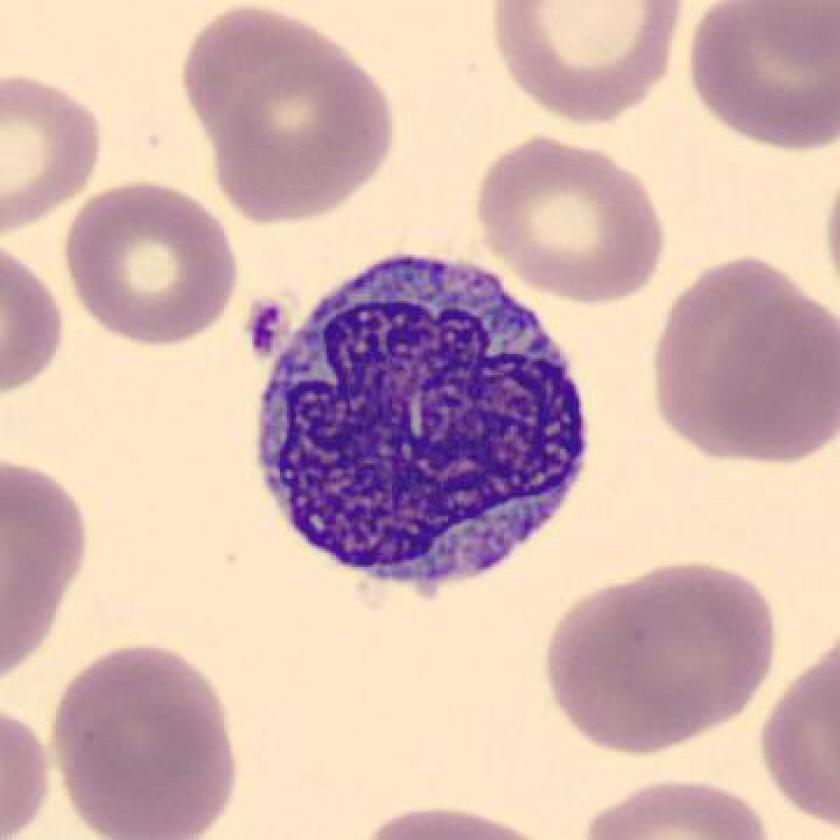monocyte: (239, 240, 601, 615)
